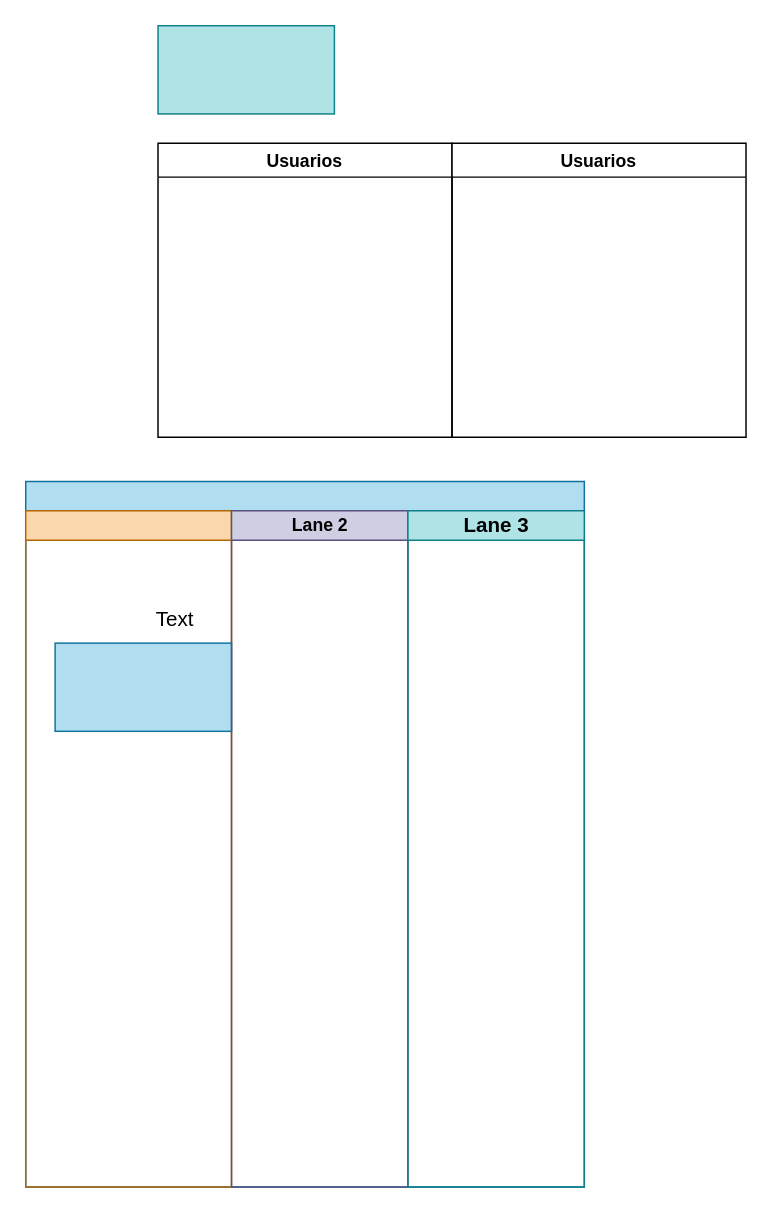
The diagram is 772 pixels wide and 1213 high, and some of its shapes have lost their labels. Here are the shapes that lost their labels. From the top down, the box of each, then its label:
(24, 509, 232, 1187): Lane 1
(24, 480, 584, 1187): Pool
